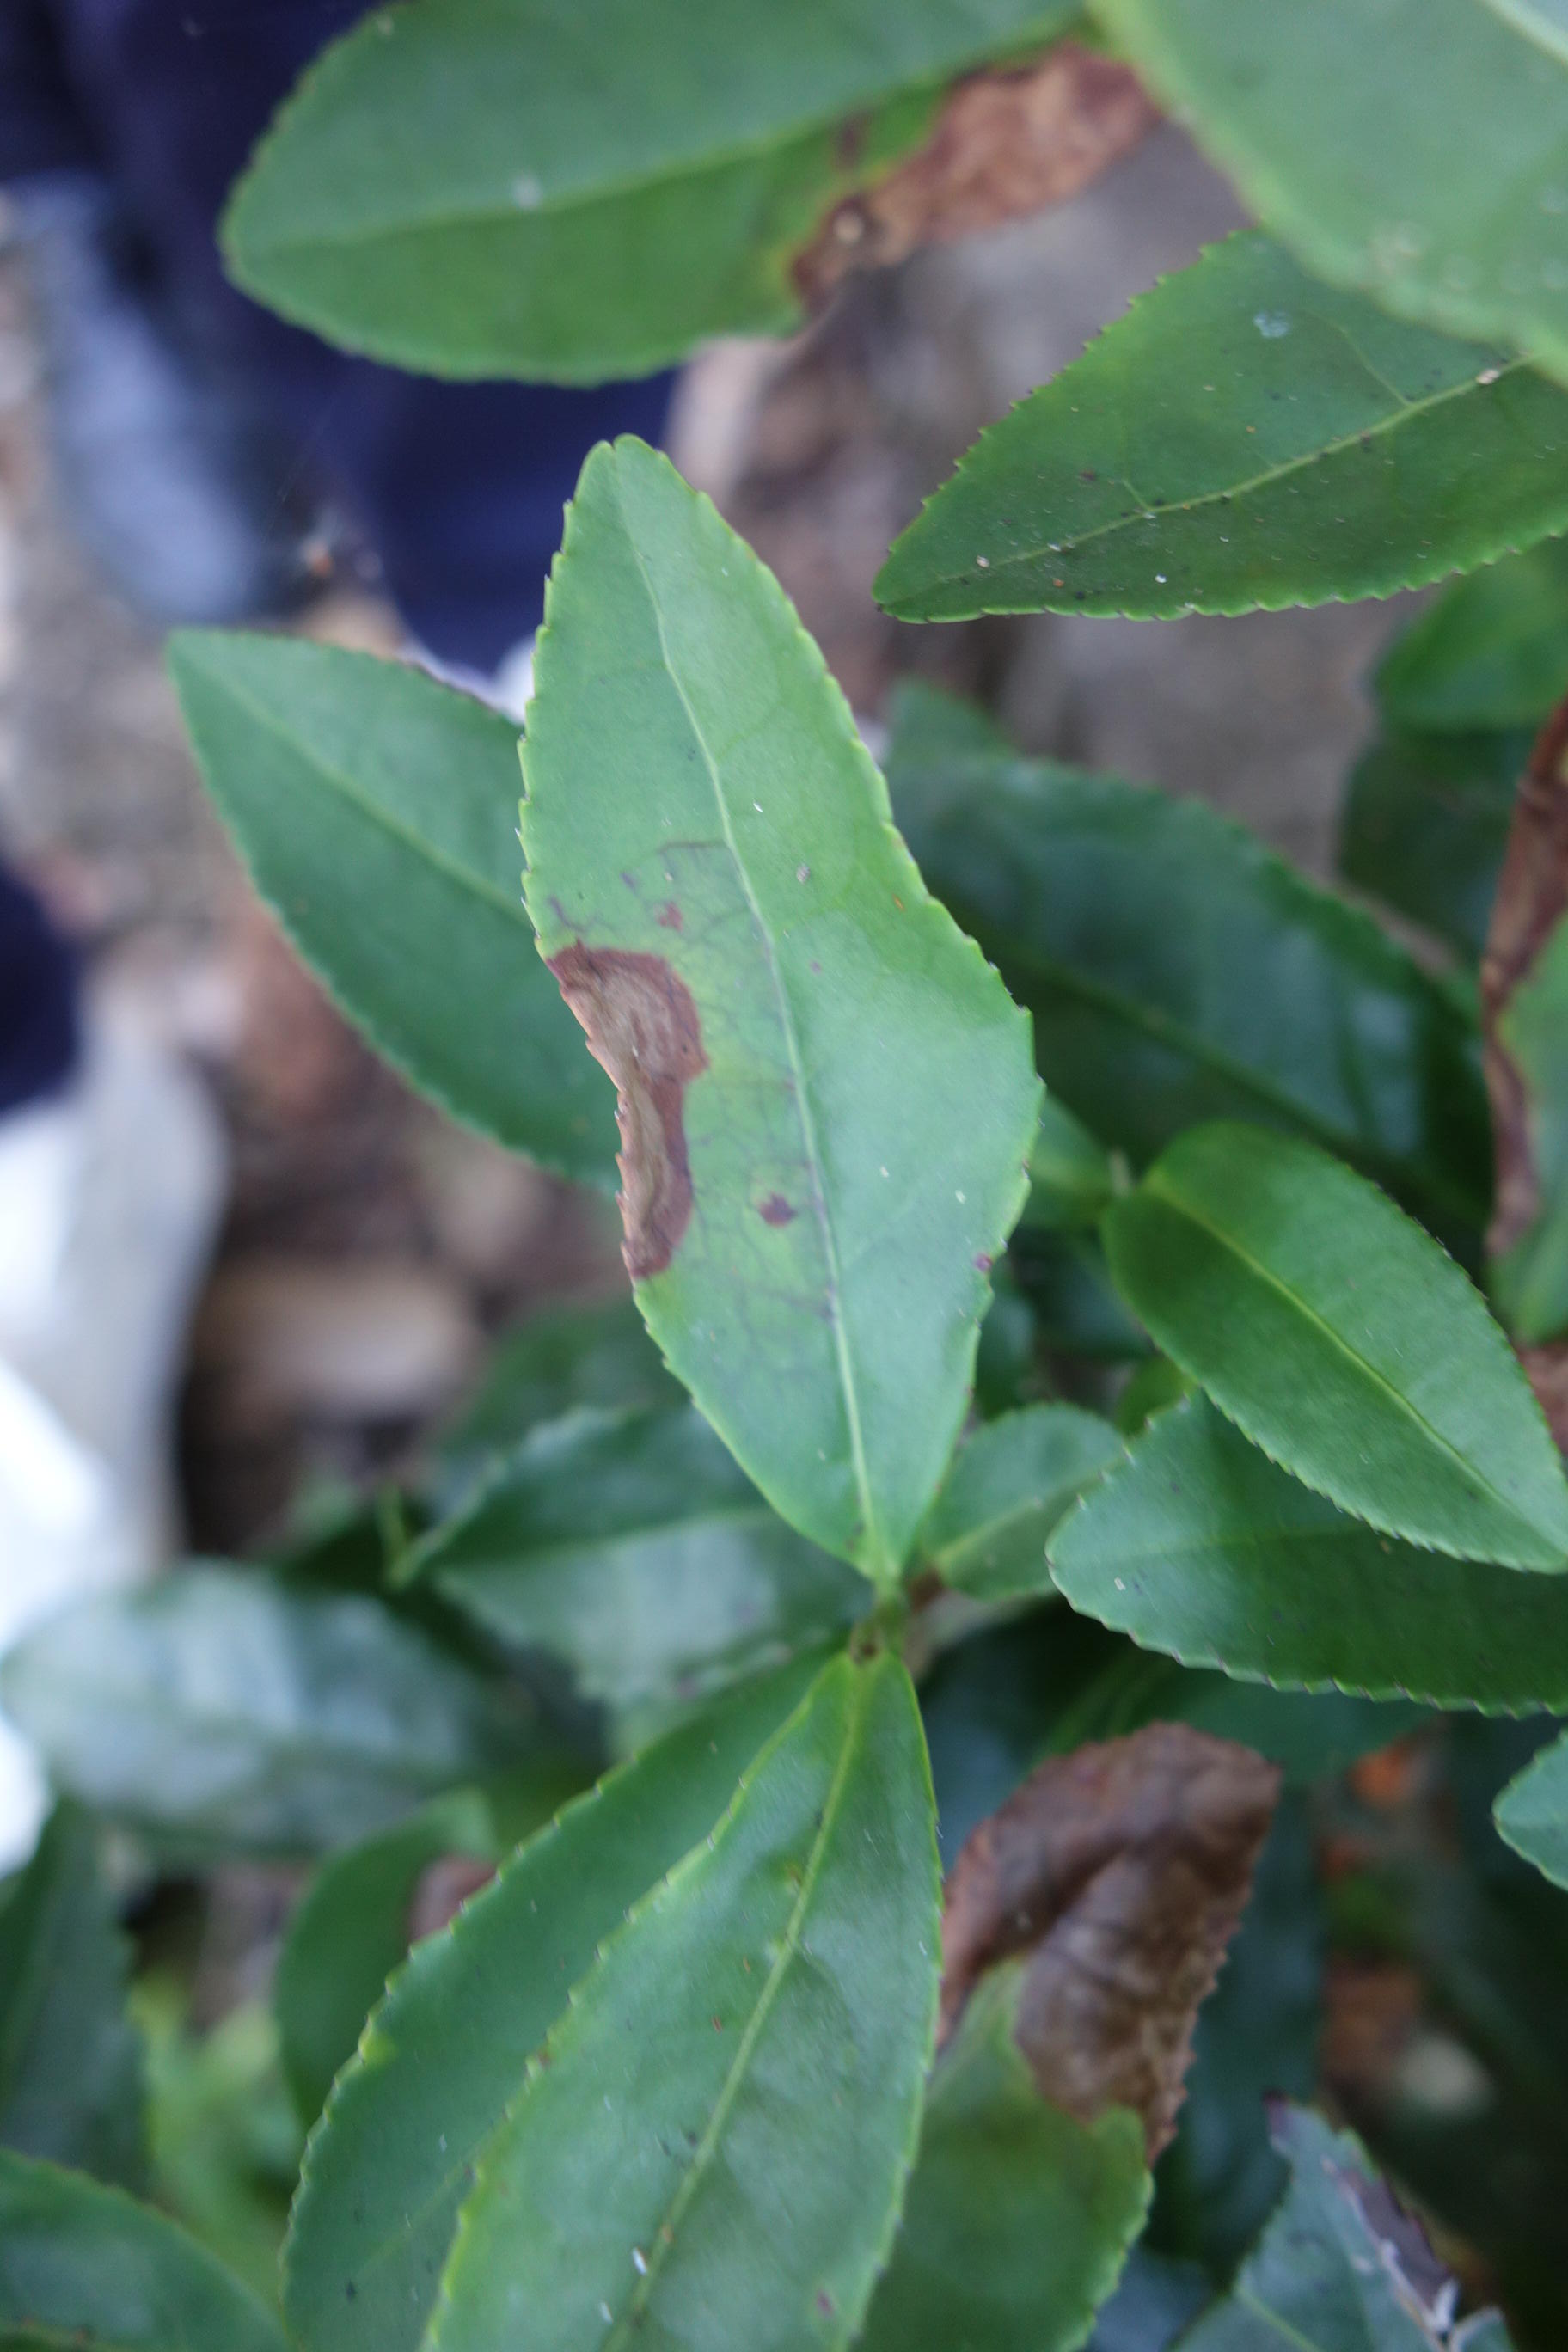healthy: (402, 1647, 943, 2350), (1101, 1111, 1568, 1573)
tanju_high: (518, 432, 1052, 1606), (217, 7, 1157, 388)
